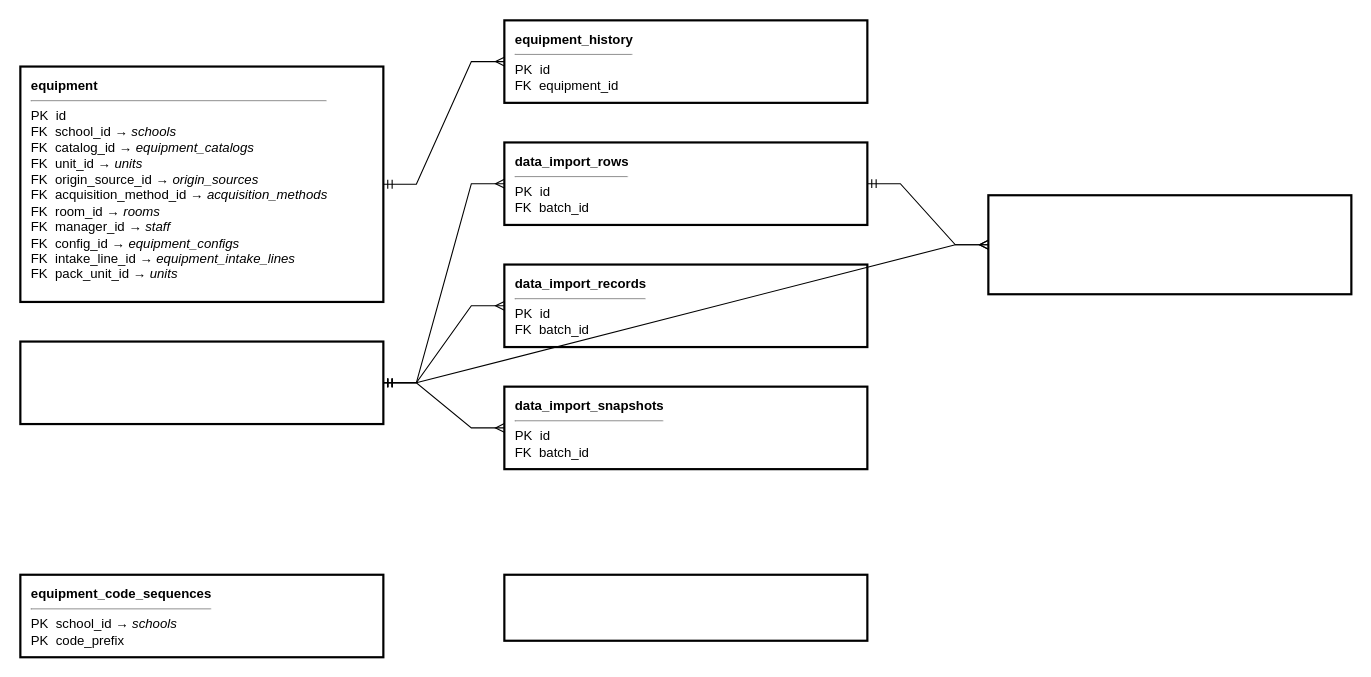
Some shapes in this 1371 by 677 pixel diagram are drawn without their labels. The shapes that lost their labels are listed below. From the top down, each one's centre as x and y in pixels, then its label:
(1169,244): data_import_edits PK id FK batch_id FK row_id
(201,382): data_import_batches PK id FK school_id → schools
(685,607): school_opening_balances PK school_id → schools
